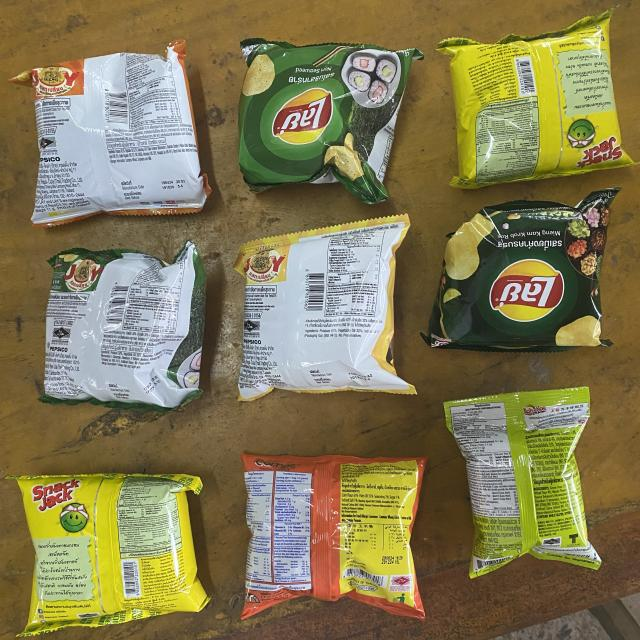plastik: (10, 40, 211, 226), (438, 9, 634, 189), (234, 214, 416, 400), (10, 474, 210, 636), (422, 188, 620, 351), (241, 454, 426, 619), (239, 39, 424, 204), (444, 386, 601, 578), (40, 241, 205, 412)
